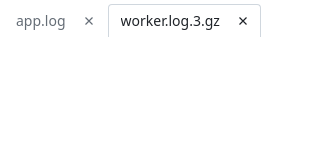
Test: the tab strip › names Alt+X, the key that closes the tab shown, in the tooltip of a close button
The width and height of the screenshot is (320, 160).
Hover over the 2nd button at (243, 21), box [234, 12, 252, 30]
Wait 500 ms
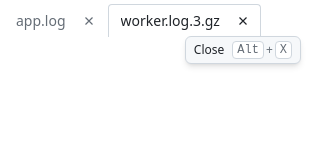
expect the text "Close" is shown: met, box [194, 42, 224, 58]
